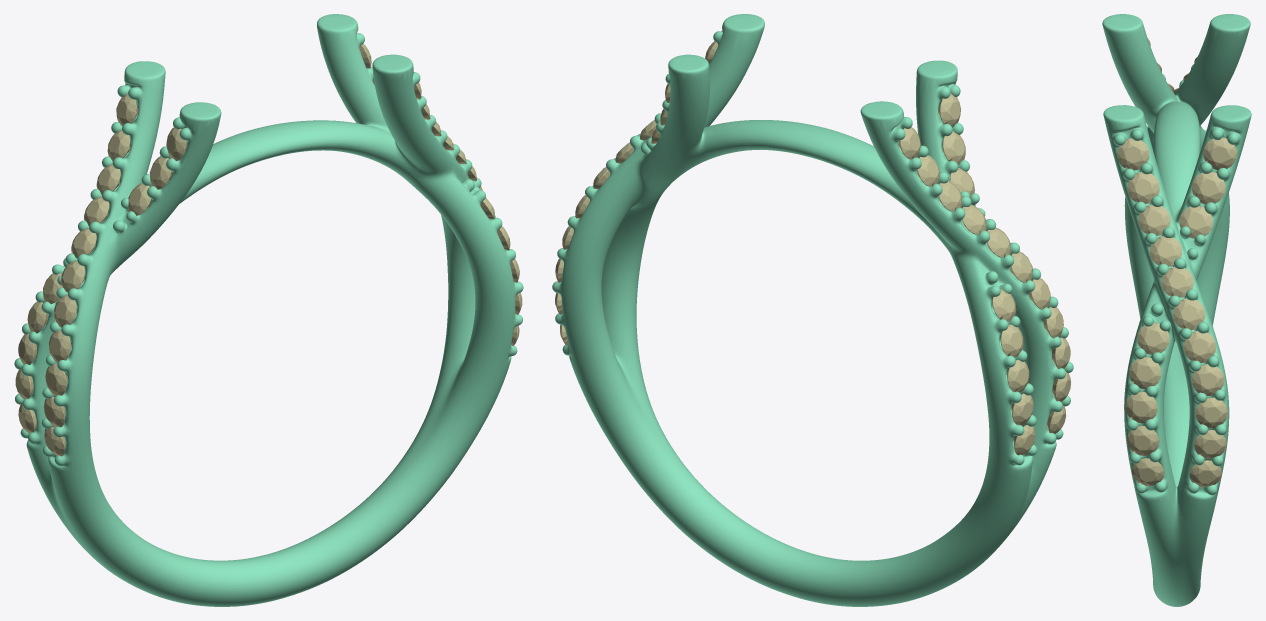
3 renders of one model, left to right at view 1: azimuth 30°, elevation 25°; view 2: azimuth 150°, elevation 25°; view 3: azimuth 270°, elevation 25°, orthographic. The views are drawn at different scales.
Parts seen in each view (by area): view 1: Metal02; view 2: Metal02; view 3: Metal02, Diamond_Gem.017, Diamond_Gem.016, Diamond_Gem.018, Diamond_Gem.011, Diamond_Gem.009, Diamond_Gem.004, Diamond_Gem.015, Diamond_Gem.005, Diamond_Gem.010, Diamond_Gem.003, Diamond_Gem.012 (+8 smaller).
Boxes of the visible parts, box(x1,y1,x2,y2) form: Metal02: box(14, 14, 523, 606); Metal02: box(552, 14, 1073, 606); Metal02: box(1102, 14, 1251, 606); Diamond_Gem.017: box(1192, 171, 1225, 204); Diamond_Gem.016: box(1203, 137, 1236, 169); Diamond_Gem.018: box(1117, 138, 1149, 170); Diamond_Gem.011: box(1129, 357, 1161, 389); Diamond_Gem.009: box(1173, 298, 1205, 330); Diamond_Gem.004: box(1183, 331, 1215, 362); Diamond_Gem.015: box(1179, 205, 1212, 238); Diamond_Gem.005: box(1127, 172, 1159, 203); Diamond_Gem.010: box(1125, 391, 1157, 423); Diamond_Gem.003: box(1192, 364, 1224, 395); Diamond_Gem.012: box(1137, 322, 1169, 354).
Bounding box in the file's own units: 21.44 × 22.84 × 5.98.
